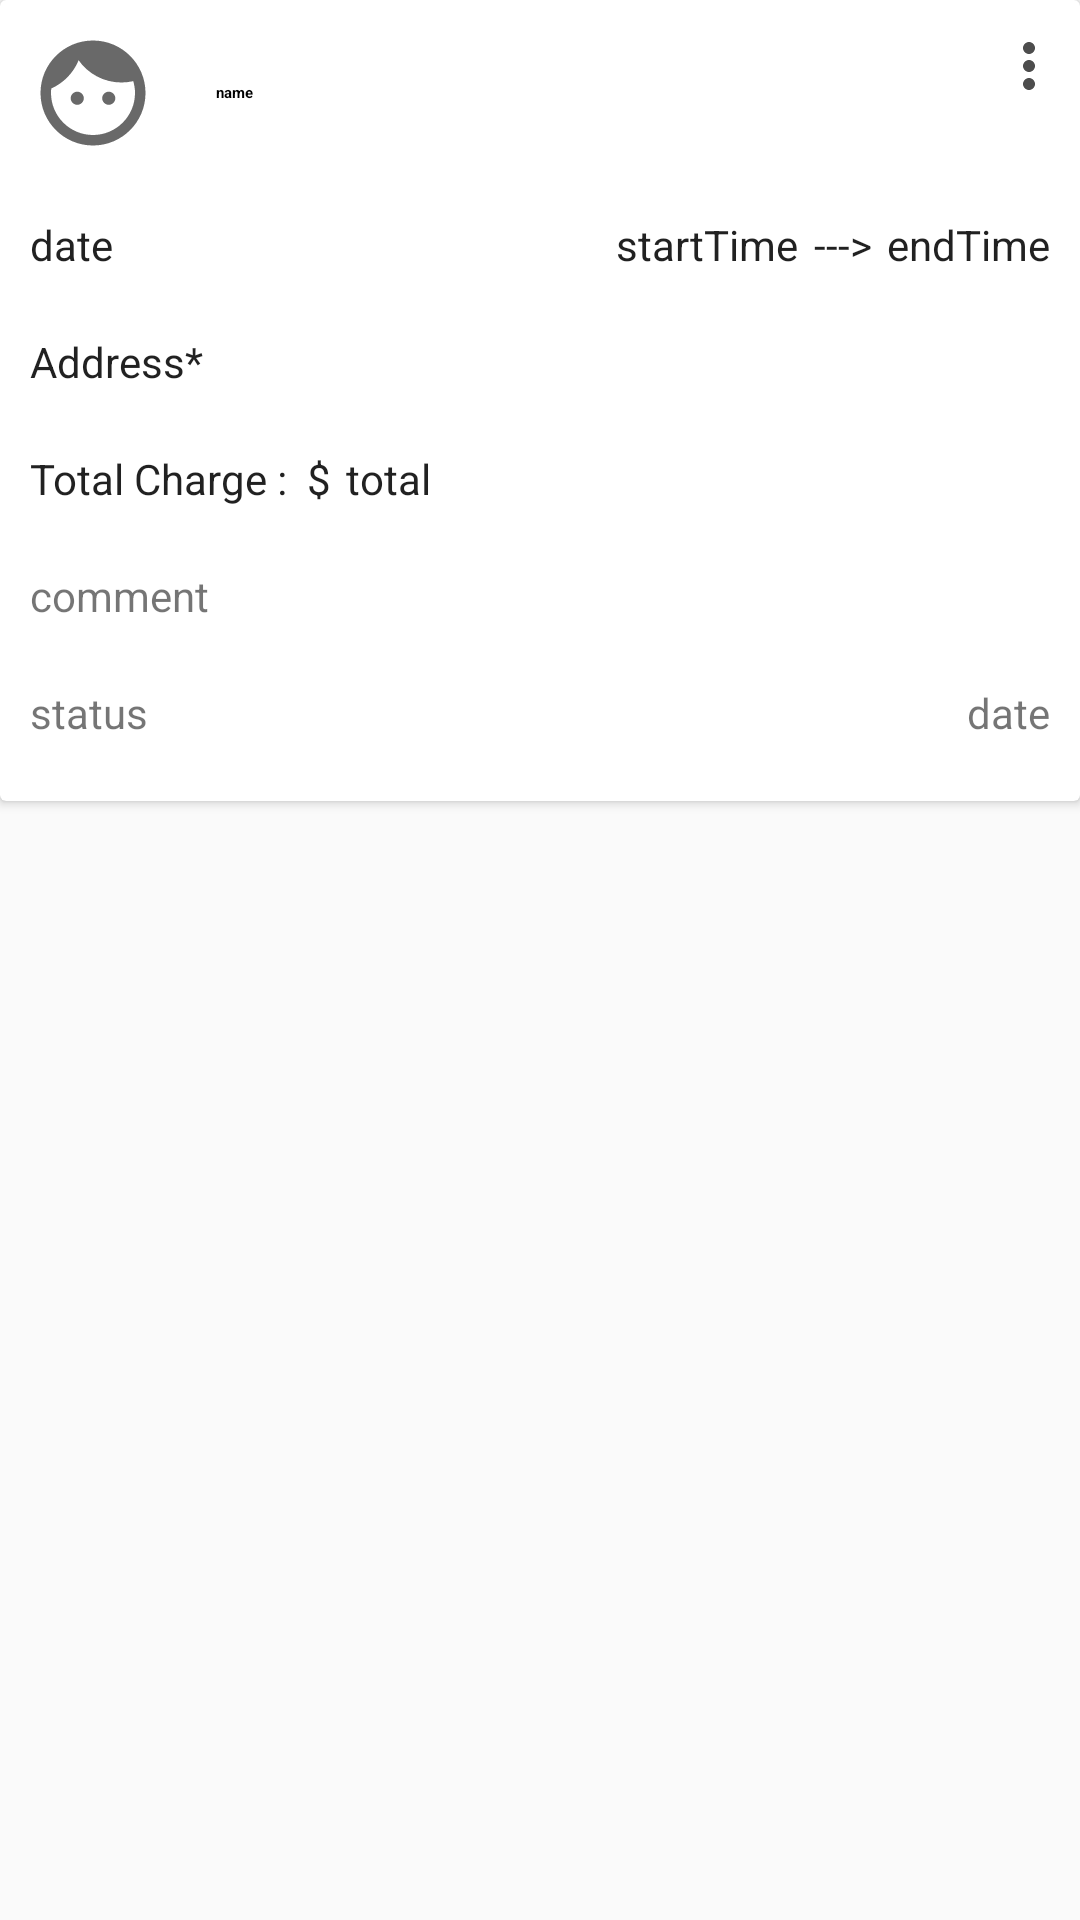

Icon click points for this 1080x1920 phone screenshot, format (x=x, y=y):
face: (x=93, y=93)
more vert: (x=1029, y=66)
